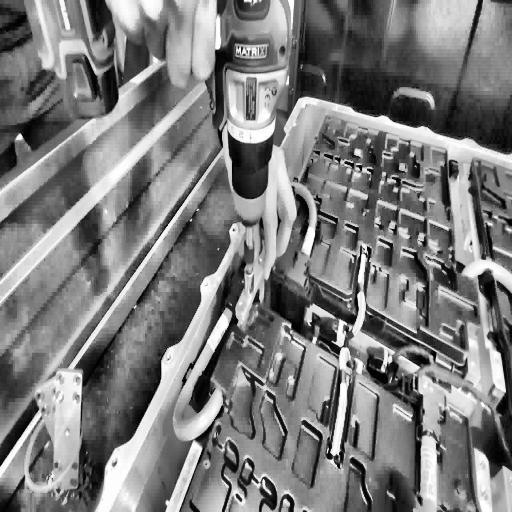high_volt_cable: (170, 306, 238, 454), (277, 164, 320, 263), (415, 382, 445, 512), (457, 247, 512, 308)
low_volt_cable: (327, 220, 372, 470)
